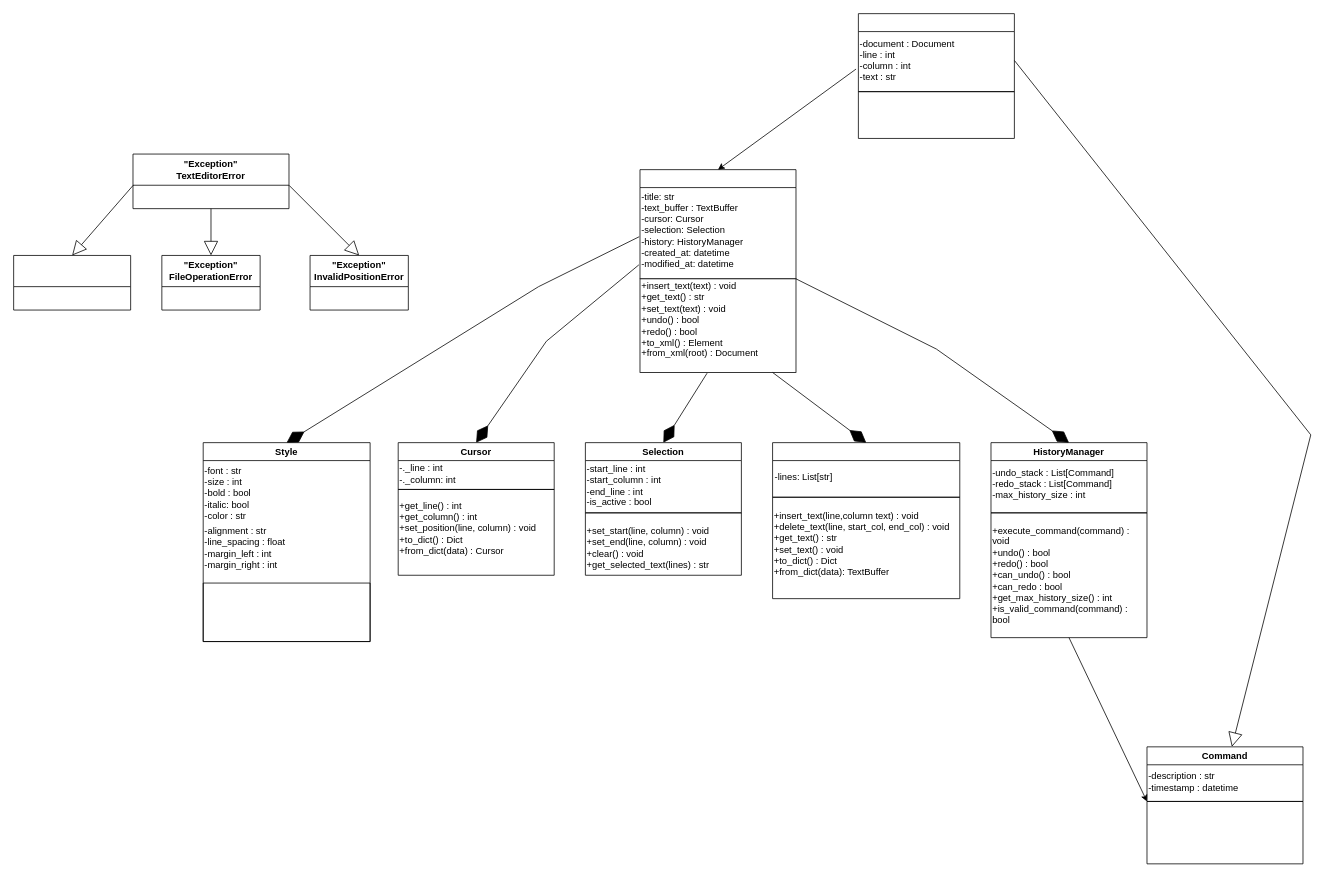
This 1338x877 diagram has some shape labels left out. The shapes that lost their labels are listed below. From the top down, each one's box as (x1, y1, x2, y2) in pixels, then its label:
(858, 13, 1014, 92): InsertTextCommand
(858, 91, 1014, 138): +execute : void +undo() : void
(639, 169, 796, 279): Document
(13, 255, 131, 310): "Exception" DocumentNotFoundError
(772, 442, 960, 497): TextBuffer
(202, 582, 370, 642): +to_dict(): Dict +from_dict(data) : TextStyle
(1146, 801, 1303, 864): +execute() : void +undo : void
